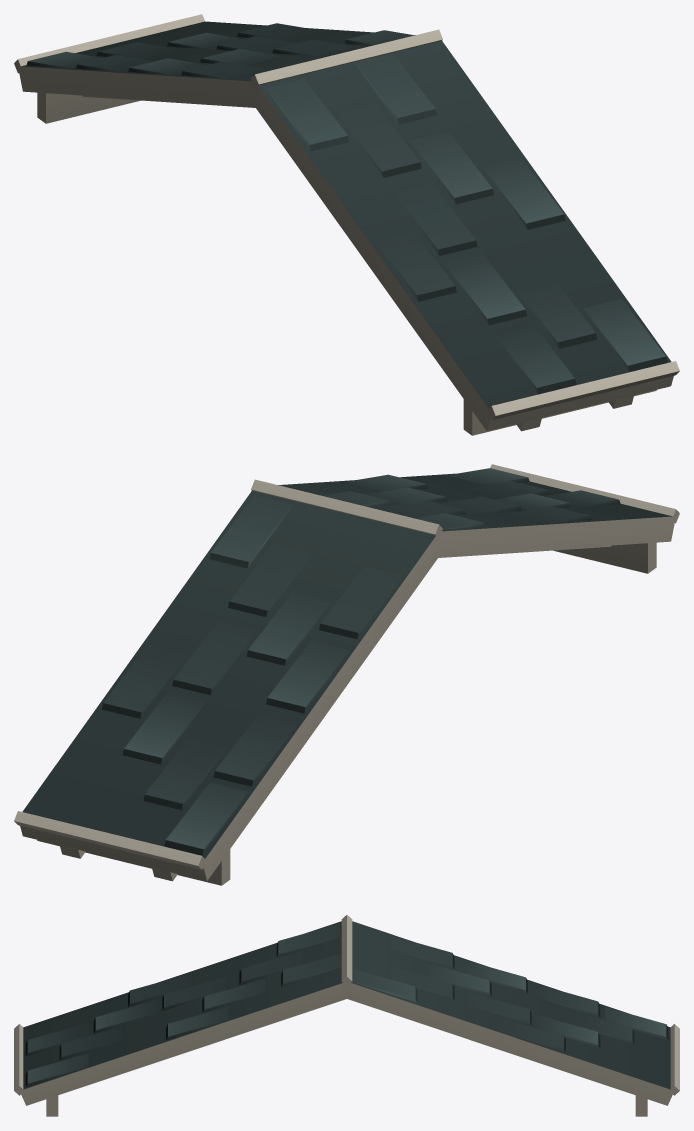
The model's file is TSP_House_Roof_02B_2.fbx.
3 views of the same model, one above another, from view 1: azimuth 30°, elevation 25°; view 2: azimuth 150°, elevation 25°; view 3: azimuth 270°, elevation 25° (orthographic). The views are drawn at different scales.
Parts seen in each view (by area): view 1: TSP_House_Roof_02B_2; view 2: TSP_House_Roof_02B_2; view 3: TSP_House_Roof_02B_2.
Boxes of the visible parts, x1,y1,x2,y2 form: TSP_House_Roof_02B_2: (14, 14, 679, 435); TSP_House_Roof_02B_2: (14, 464, 679, 885); TSP_House_Roof_02B_2: (14, 915, 679, 1116).
Bounding box in the file's own units: 2 × 2.1 × 9.05.
